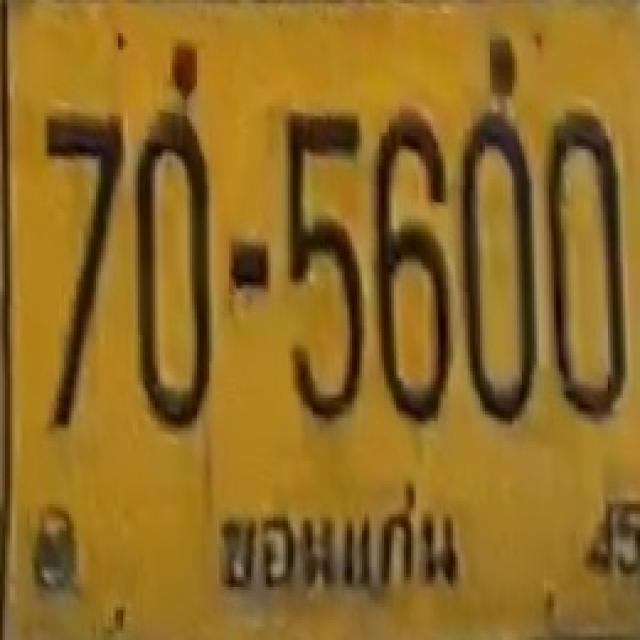0: (543, 111, 626, 420), (458, 111, 536, 423), (134, 113, 211, 428)
5: (285, 112, 365, 419)
6: (372, 111, 451, 423)
7: (45, 113, 122, 428)
KKN: (197, 467, 470, 610)
